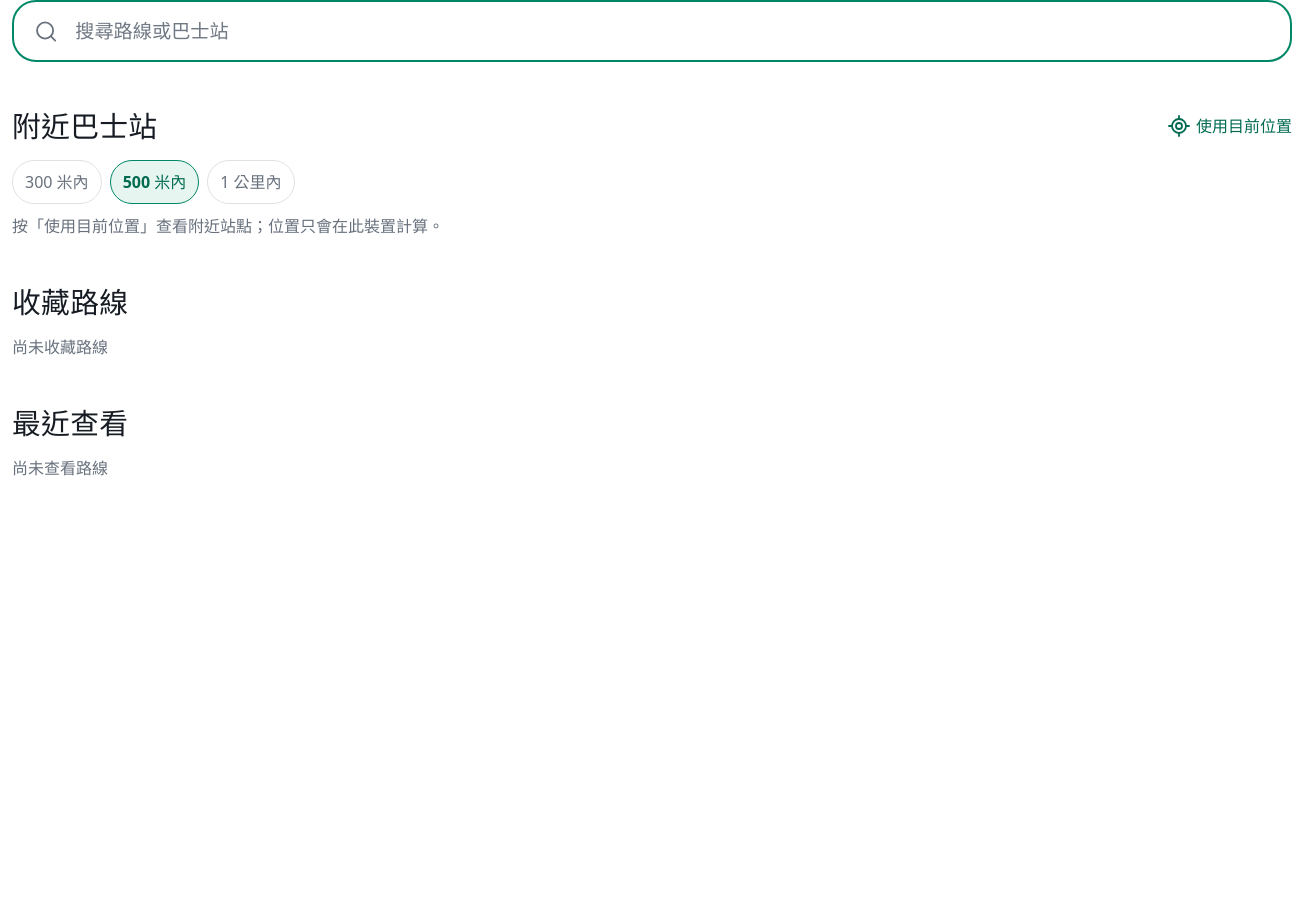
it: HomePage › renders nearby arrival details and opens the returned route direction
The image size is (1304, 900).
Later steps or results of the test are not shown.
Click the button "使用目前位置": click(1230, 126) [1167,104,1292,148]
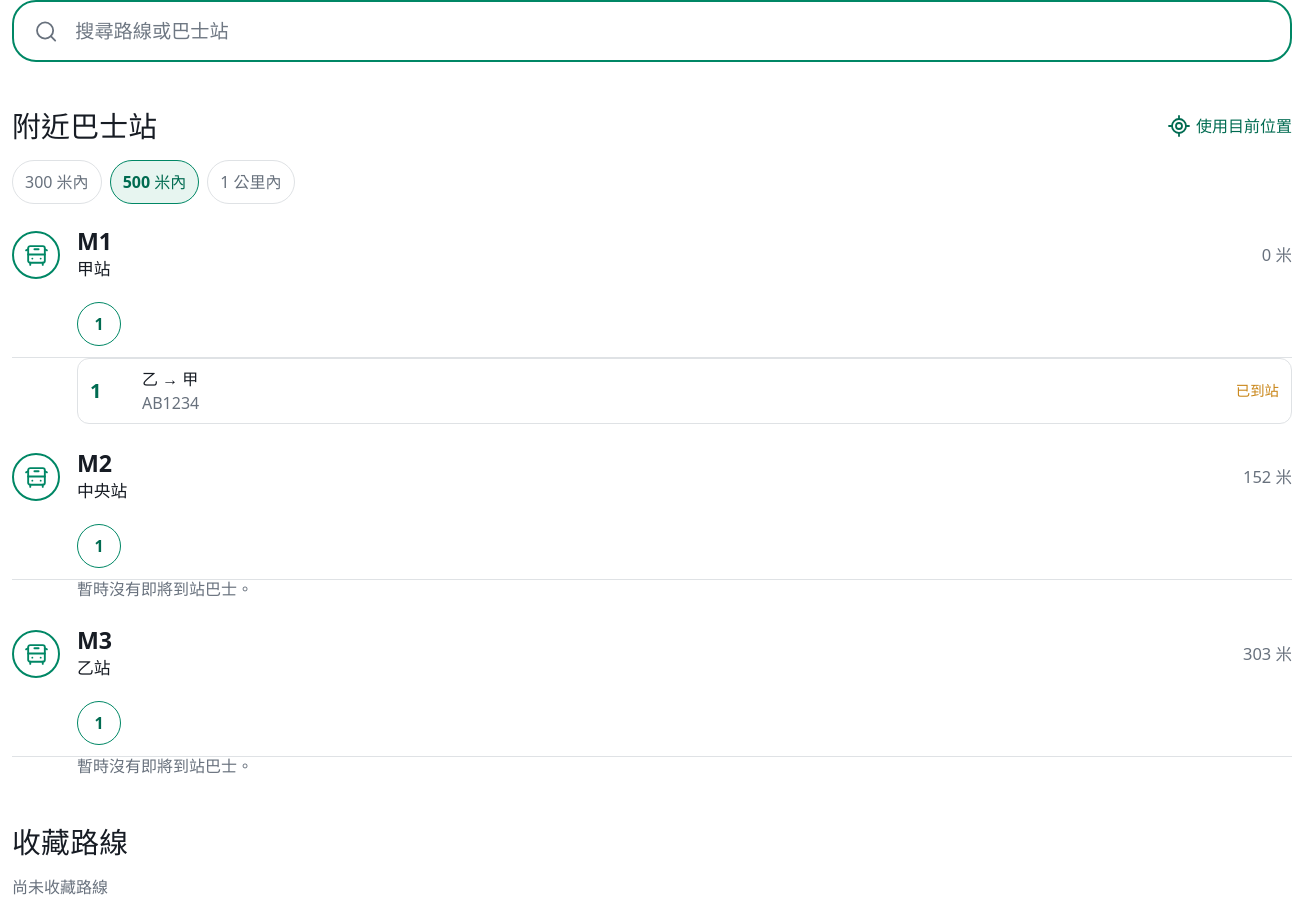
Result: the text "AB1234" is shown at [142,392,199,414]
Result: the text "已到站" is shown at [1236,381,1279,400]
